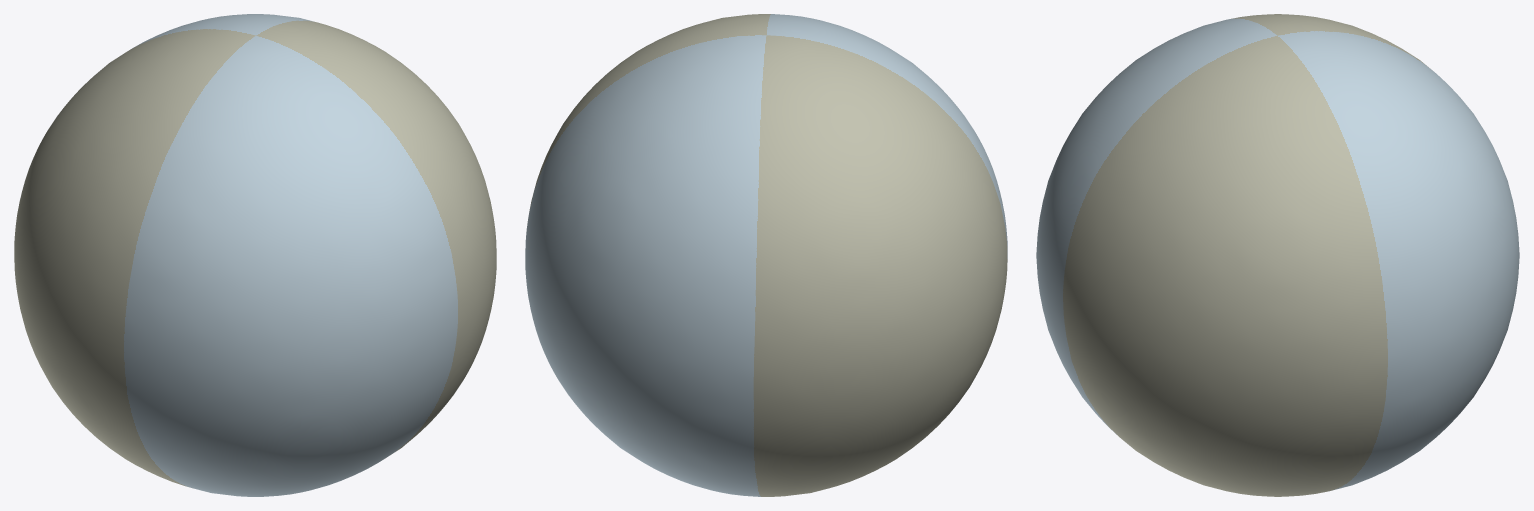
The model's file is whbx_planet.obj.
3 renders of one model, left to right at view 1: azimuth 30°, elevation 25°; view 2: azimuth 150°, elevation 25°; view 3: azimuth 270°, elevation 25°, orthographic.
Visible parts, largest first — view 1: Icosphere_Icosphere.002; view 2: Icosphere_Icosphere.002; view 3: Icosphere_Icosphere.002.
Boxes of the visible parts, left/top/right/bottom form: Icosphere_Icosphere.002: left=14, top=14, right=496, bottom=496; Icosphere_Icosphere.002: left=525, top=14, right=1007, bottom=496; Icosphere_Icosphere.002: left=1036, top=14, right=1519, bottom=496.
Size of the model in its own units: 196 by 197 by 196.
